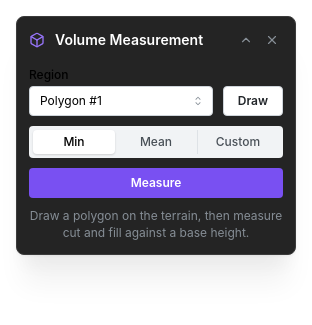
it: VolumePanel › refuses to report volumes on the default ellipsoid terrain
Step 1. Click the button "Measure" → (156, 183), box [29, 168, 283, 198]
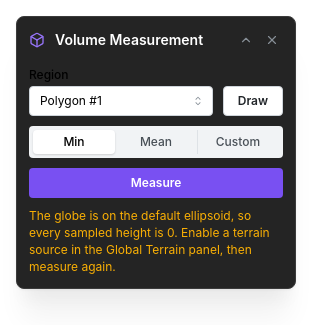
Now the text with test id "volume-terrain-notice" shows "Enable a terrain source in the Global Terrain panel", box [29, 208, 270, 274]
